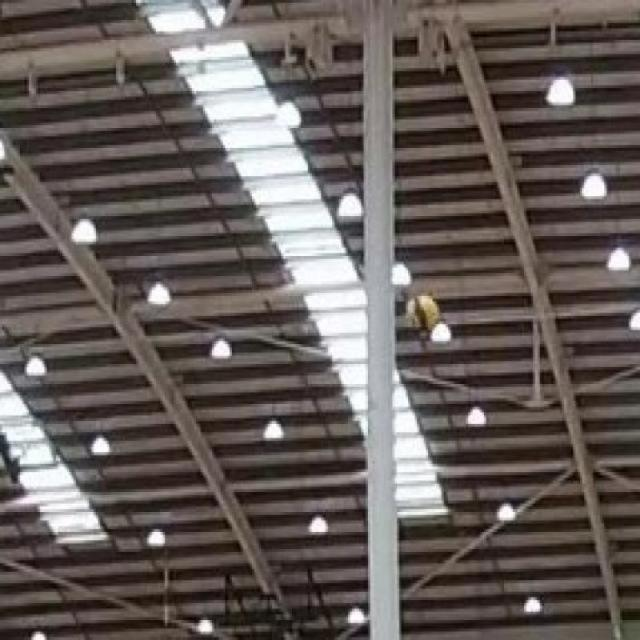volleyball: (403, 293, 443, 342)
